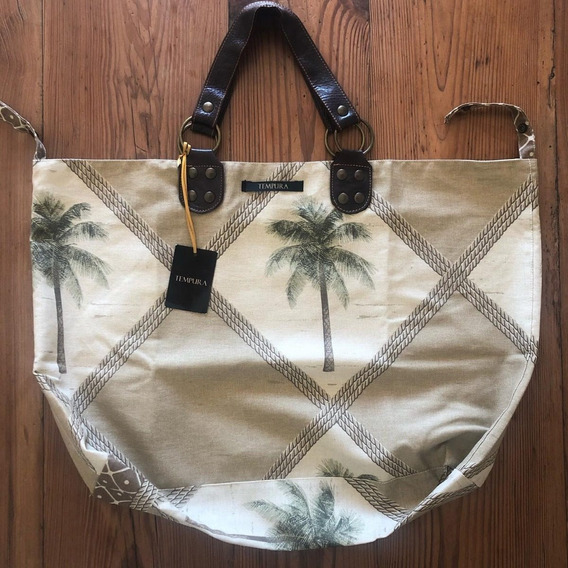cartera: (29, 1, 544, 554)
